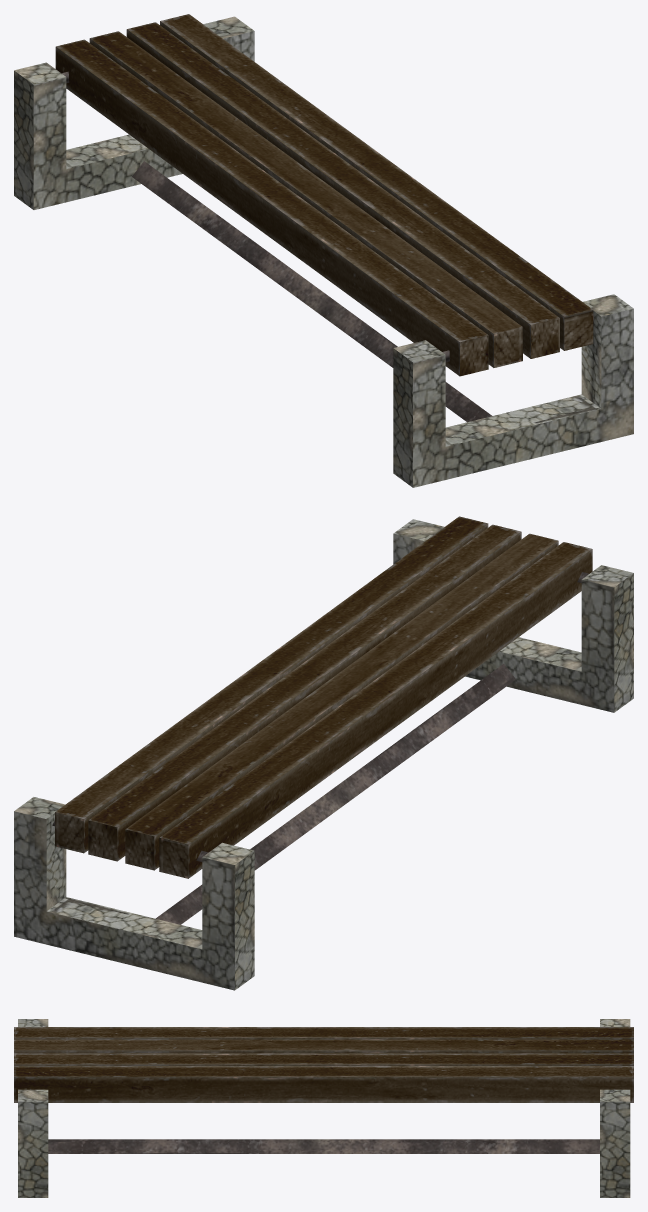
File: bench_stone.FBX
The picture shows the model from 3 angles, top to bottom: view 1: azimuth 30°, elevation 25°; view 2: azimuth 150°, elevation 25°; view 3: azimuth 270°, elevation 25°; orthographic projection. The views are drawn at different scales.
Parts seen in each view (by area): view 1: bench_stone; view 2: bench_stone; view 3: bench_stone.
Part boxes in pixels (x1,y1,x2,y2): bench_stone: [14, 14, 633, 487]; bench_stone: [14, 516, 633, 990]; bench_stone: [14, 1019, 633, 1197].
Size of what is drawn, in the model's own units: 71.57 by 42.35 by 227.
